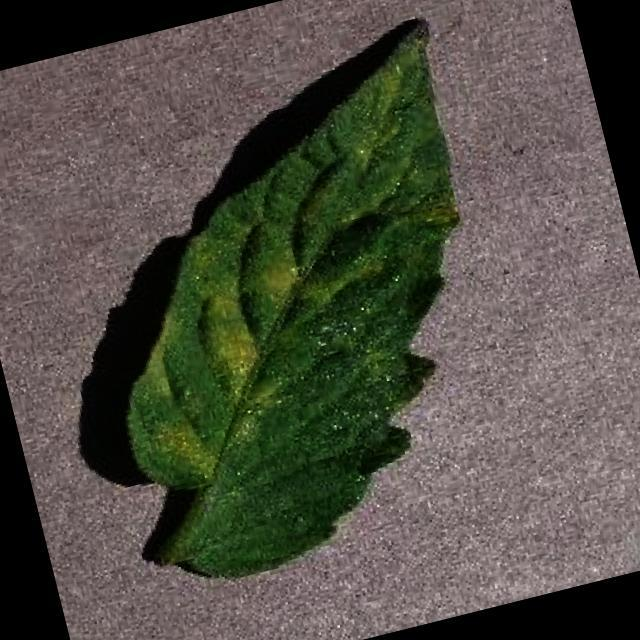Tomato mold leaf: (46, 16, 540, 598)
